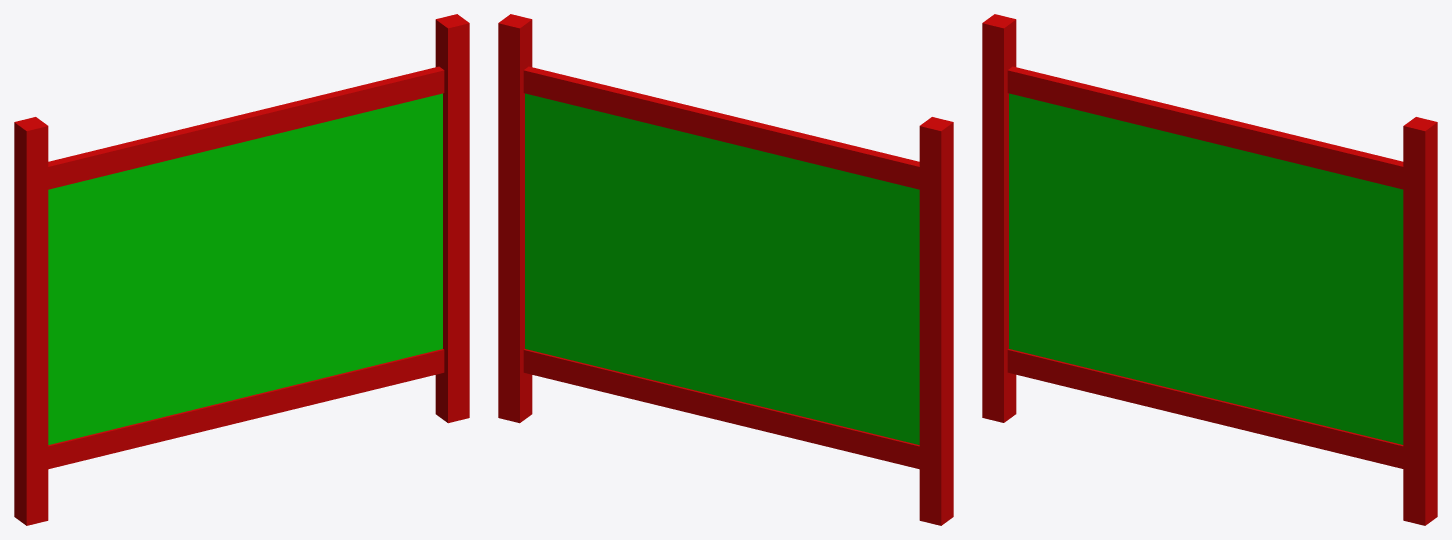
The model's file is Lighthouse_Building_K.fbx.
The picture shows the model from 3 angles, left to right: view 1: azimuth 30°, elevation 25°; view 2: azimuth 150°, elevation 25°; view 3: azimuth 330°, elevation 25°; orthographic projection.
Visible parts, largest first — view 1: Lighthouse_Building_K; view 2: Lighthouse_Building_K; view 3: Lighthouse_Building_K.
Boxes of the visible parts, x1=… form: Lighthouse_Building_K: x1=14, y1=14, x2=469, y2=525; Lighthouse_Building_K: x1=498, y1=14, x2=953, y2=525; Lighthouse_Building_K: x1=982, y1=14, x2=1437, y2=525.
Bounding box in the file's own units: 294 × 250 × 14.41.
